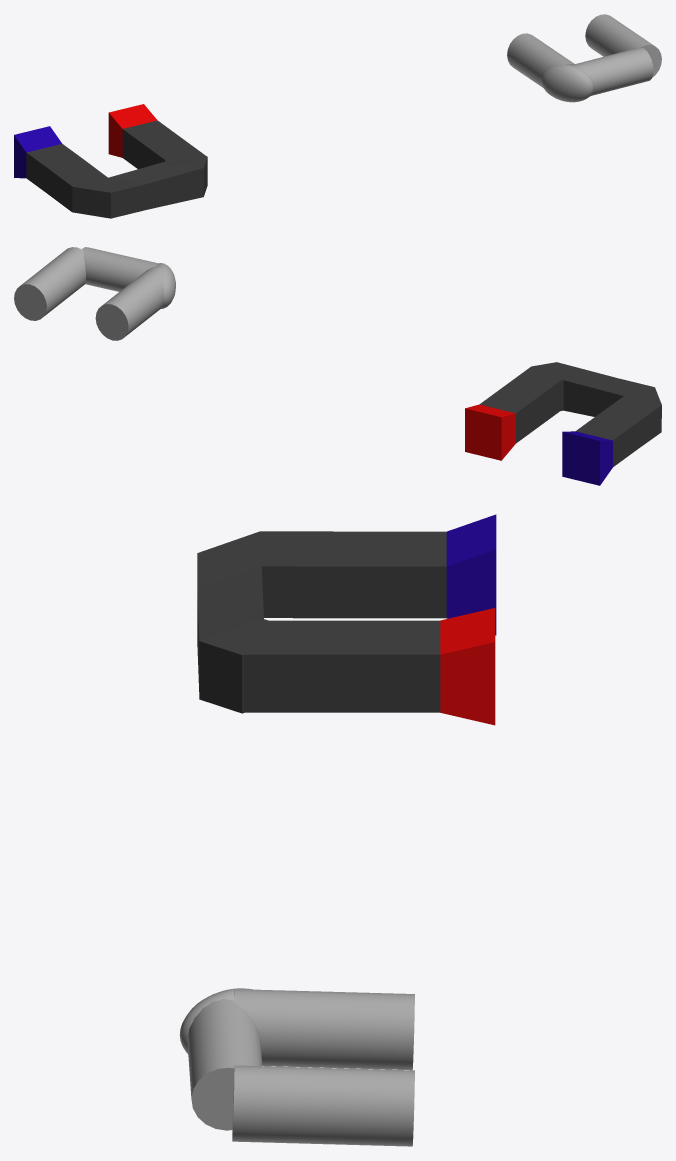
The model's file is magnet.fbx.
3 views of the same model, one above another, from view 1: azimuth 30°, elevation 25°; view 2: azimuth 150°, elevation 25°; view 3: azimuth 270°, elevation 25° (orthographic). The views are drawn at different scales.
Visible parts, largest first — view 1: polySurface1, pasted__pCylinder1 (×2), pCylinder1, pSphere1; view 2: polySurface1, pasted__pCylinder1 (×2), pCylinder1, pSphere1; view 3: polySurface1, pasted__pCylinder1 (×2), pCylinder1.
Boxes of the visible parts, x1,y1,x2,y2 form: polySurface1: (14,104,207,218); pasted__pCylinder1 (×2): (507,14,661,87); pCylinder1: (573,48,653,95); pSphere1: (540,64,593,102); polySurface1: (465,362,661,485); pasted__pCylinder1 (×2): (14,247,175,340); pCylinder1: (82,247,157,291); pSphere1: (155,263,175,308); polySurface1: (197,514,496,725); pasted__pCylinder1 (×2): (232,989,414,1146); pCylinder1: (187,999,262,1130).
Size of the model in its own units: 54.86 by 3.87 by 12.9.
